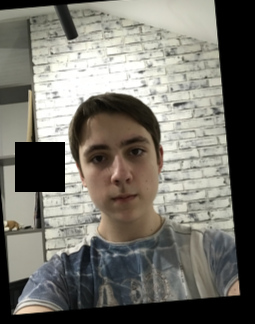without_mask: (81, 133, 159, 222)
